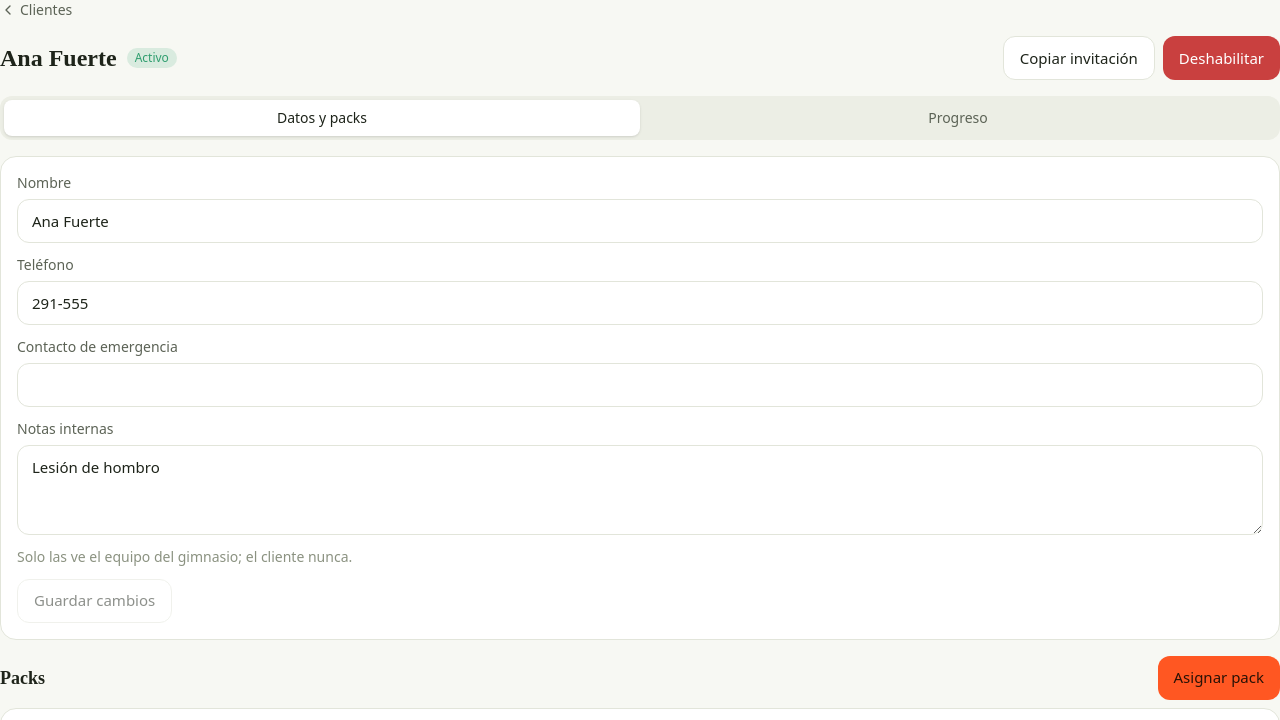
it: ClientDetail (F3-05) › sin packs en el catálogo, el modal dice qué hacer en vez de un select vacío
The width and height of the screenshot is (1280, 720).
Click the button "Asignar pack".
click(1219, 678)  # box [1158,656,1279,700]
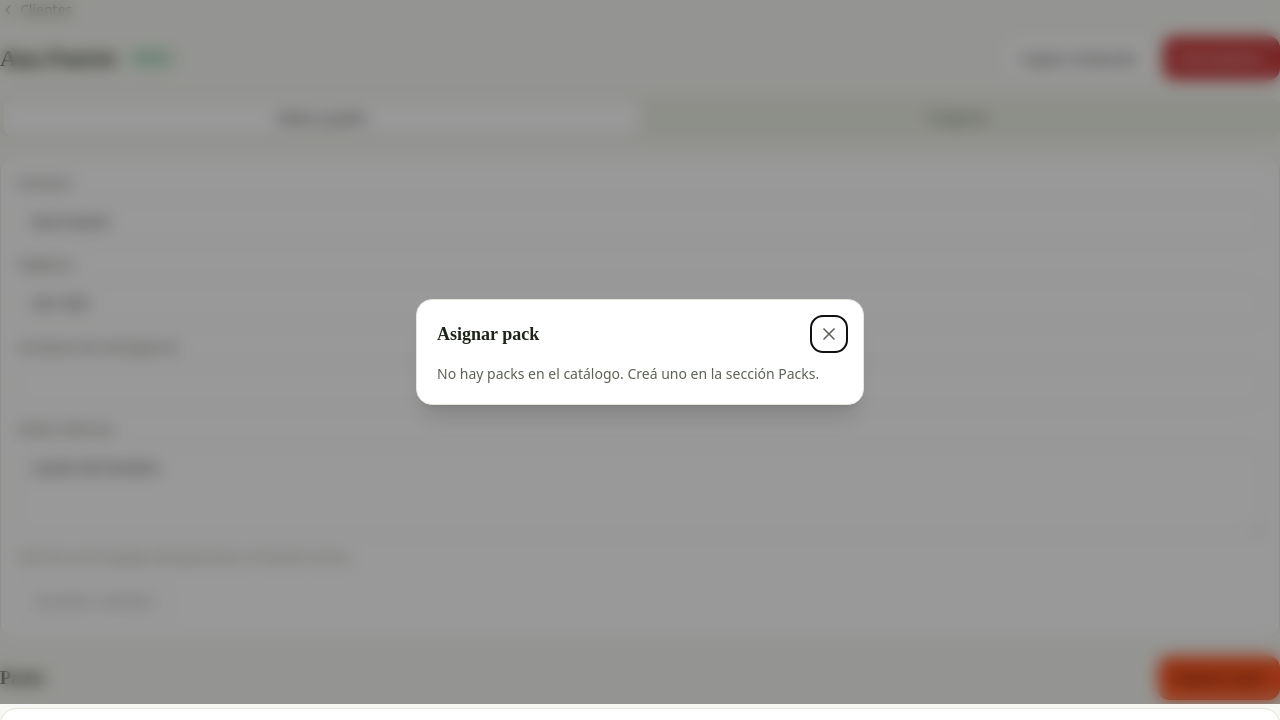
Now the text "No hay packs en el catálogo. Creá uno en la sección Packs." is shown, box [437,364,843,384]
